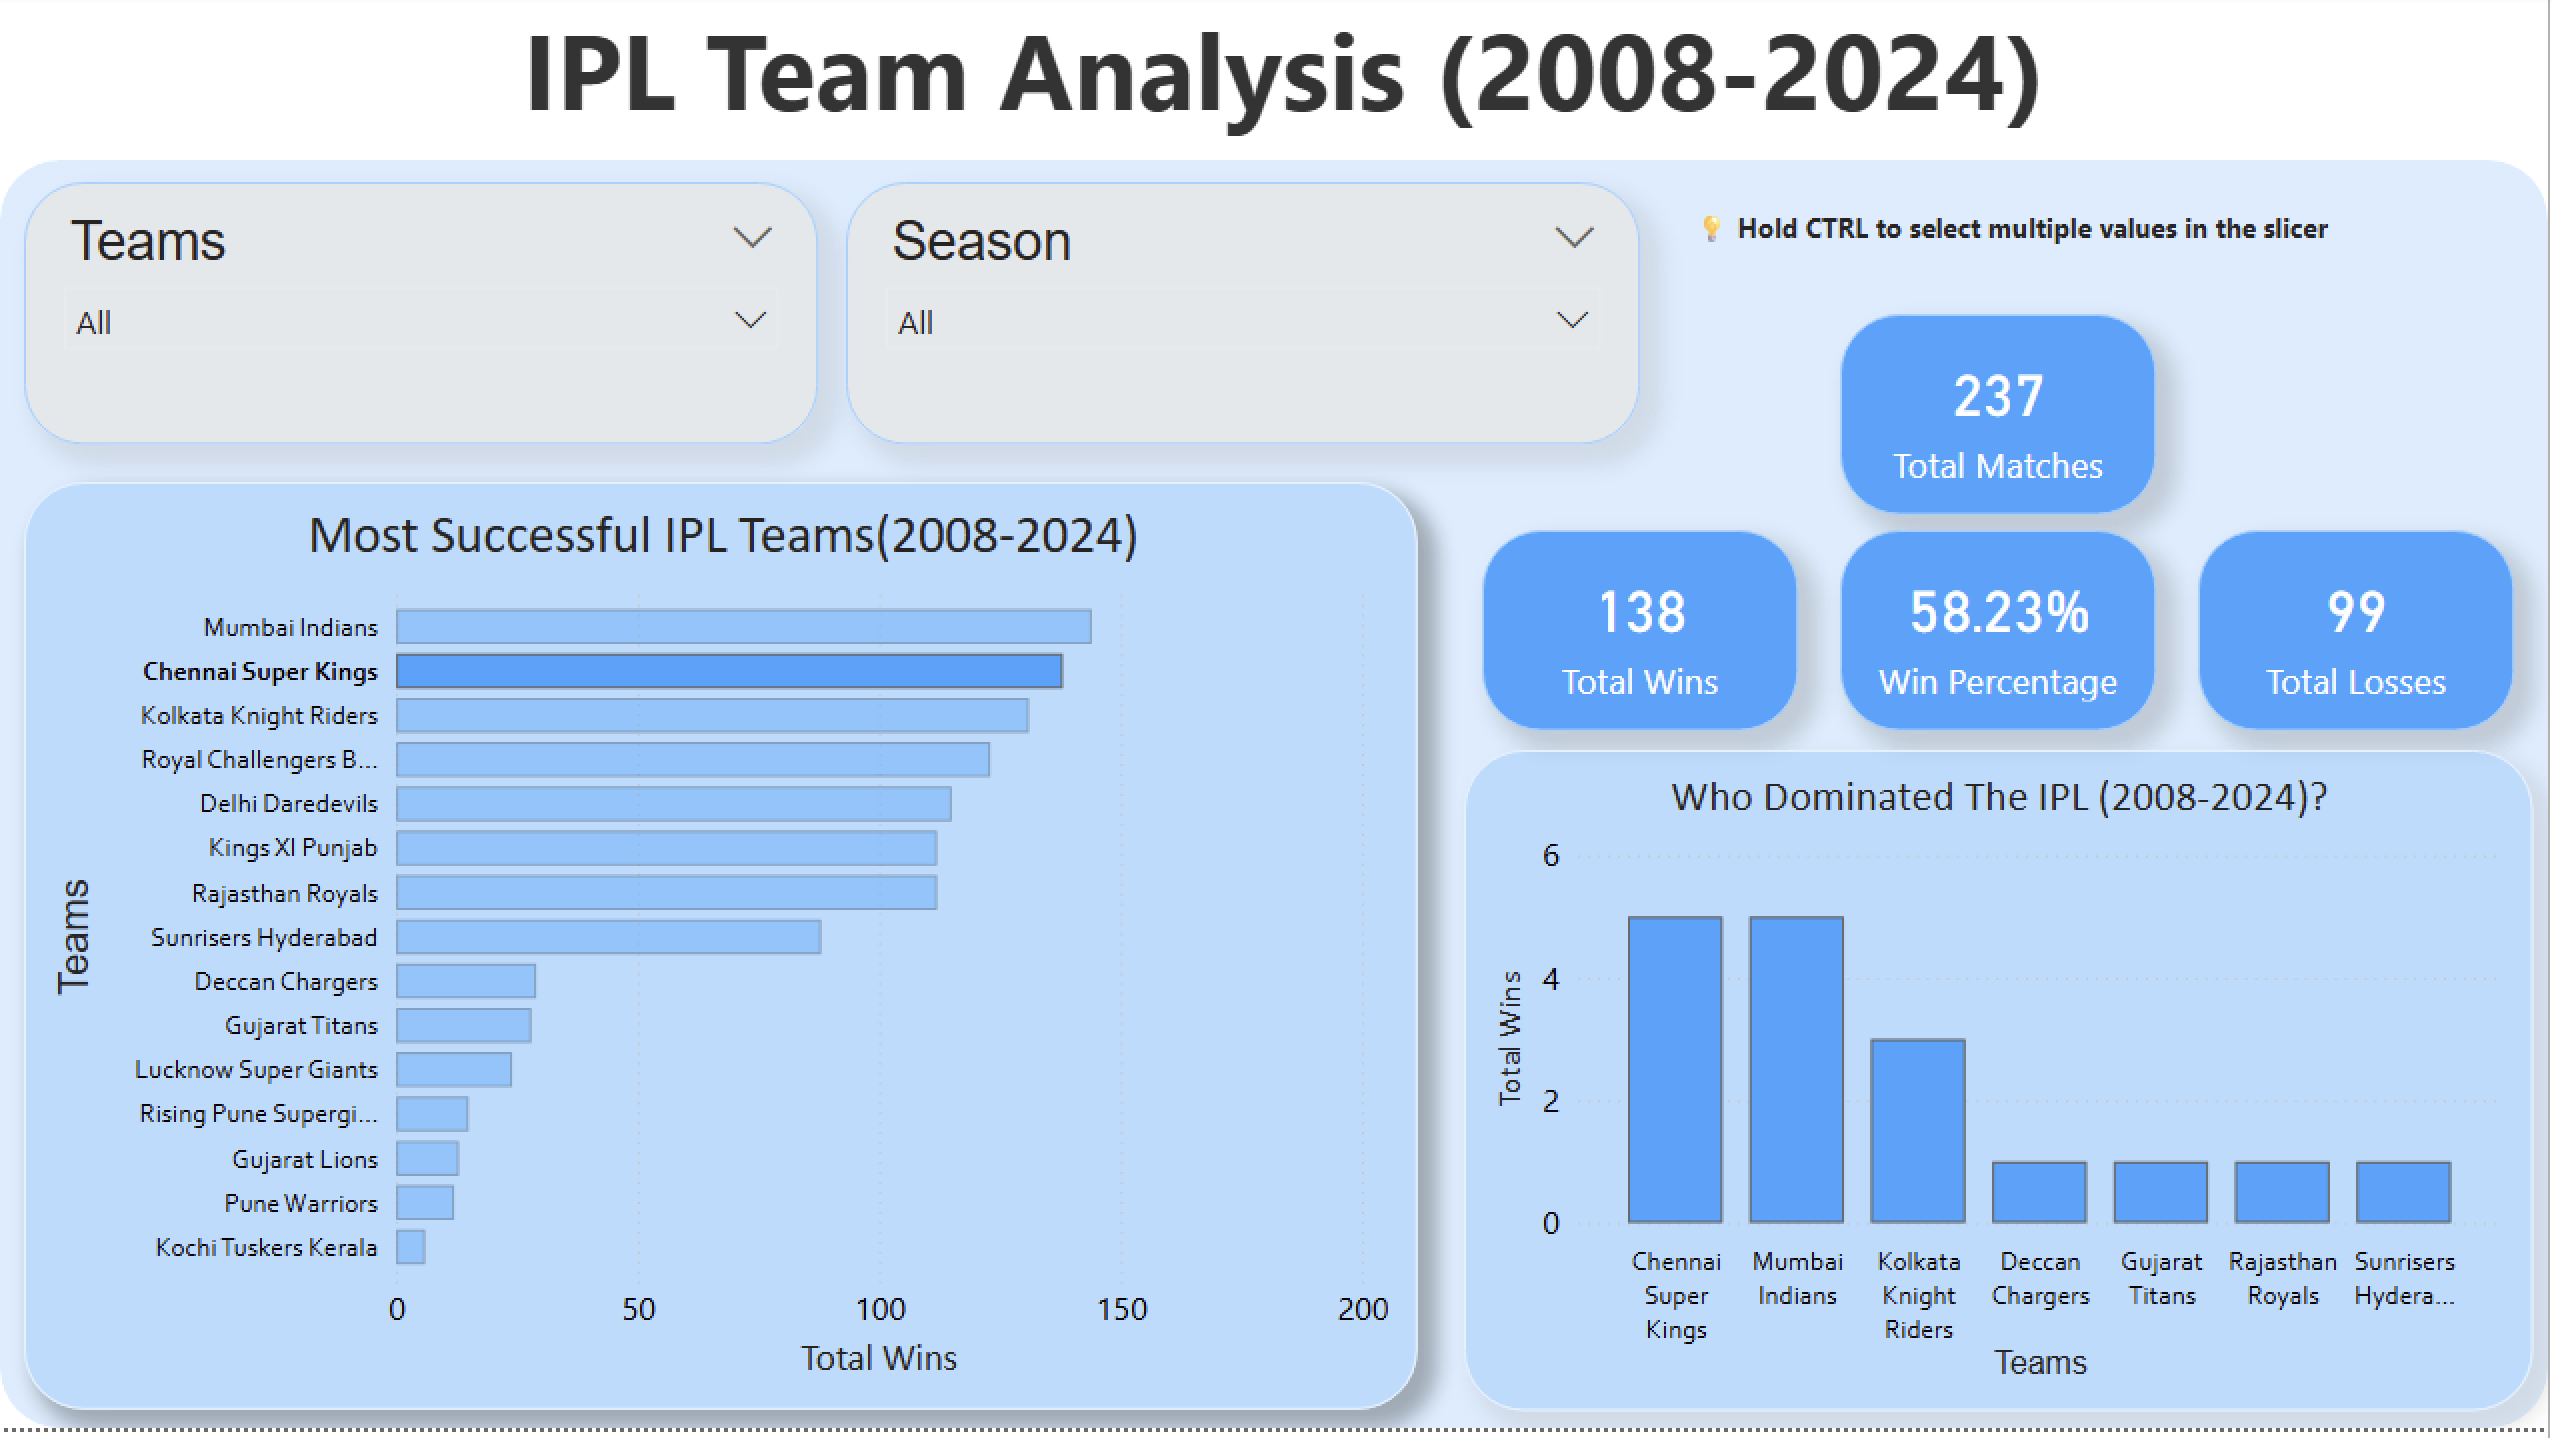

The page's visual inventory and layout, read from the dashboard file:
{"tool":"powerbi","page":{"name":"Team Analysis","canvas":[1280,720],"ordinal":0},"visuals":[{"type":"shape","box":[0,83.4,1280,637],"z":0},{"type":"clusteredBarChart","title":"Most Successful IPL Teams(2008-2024)","fields":{"Category":["matches_cleaned.winner"],"Y":["CountNonNull(matches_cleaned.id)"]},"box":[12.1,245.1,700.3,466.2],"z":1000},{"type":"slicer","fields":{"Values":["matches_cleaned.winner"]},"box":[12.1,94.4,398.9,131.6],"z":2000},{"type":"slicer","title":"Select Season","fields":{"Values":["matches_cleaned.season"]},"box":[425,94.4,398.9,131.6],"z":3000},{"type":"textbox","box":[0,0,1280,83.4],"z":4000},{"type":"textbox","box":[846,108.5,360.7,24.1],"z":5000},{"type":"card","fields":{"Values":["matches_cleaned.Total Matches Played"]},"box":[924.3,160.8,158.7,101.5],"z":6000},{"type":"card","fields":{"Values":["matches_cleaned.Total Wins"]},"box":[744.5,269.3,158.7,101.5],"z":7000},{"type":"card","fields":{"Values":["matches_cleaned.Total Losses"]},"box":[1104.2,269.3,158.7,101.5],"z":8000},{"type":"card","fields":{"Values":["matches_cleaned.Win Percentage"]},"box":[924.3,269.3,158.7,101.5],"z":12000},{"type":"columnChart","title":"Who Dominated The IPL (2008-2024)?","fields":{"Category":["IPL Winners.winner"],"Y":["CountNonNull(IPL Winners.id)"]},"box":[735.4,379.8,536.5,331.6],"z":13000}]}

Visuals, with their boxes in screenshot pixels (x1, y1, x2, y2), scaled from the page's 1280x720 canvas onto the 2552x1438 screenshot:
shape: box=[0, 167, 2551, 1437]
"Most Successful IPL Teams(2008-2024)" clusteredBarChart: box=[24, 490, 1420, 1421]
slicer - matches_cleaned.winner: box=[24, 189, 819, 451]
"Select Season" slicer: box=[847, 189, 1643, 451]
textbox: box=[0, 0, 2551, 167]
textbox: box=[1687, 217, 2406, 265]
card - matches_cleaned.Total Matches Played: box=[1843, 321, 2159, 524]
card - matches_cleaned.Total Wins: box=[1484, 538, 1801, 741]
card - matches_cleaned.Total Losses: box=[2201, 538, 2518, 741]
card - matches_cleaned.Win Percentage: box=[1843, 538, 2159, 741]
"Who Dominated The IPL (2008-2024)?" columnChart: box=[1466, 759, 2536, 1421]
